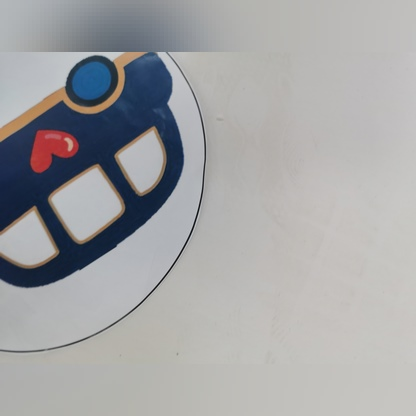car: (0, 45, 195, 321)
